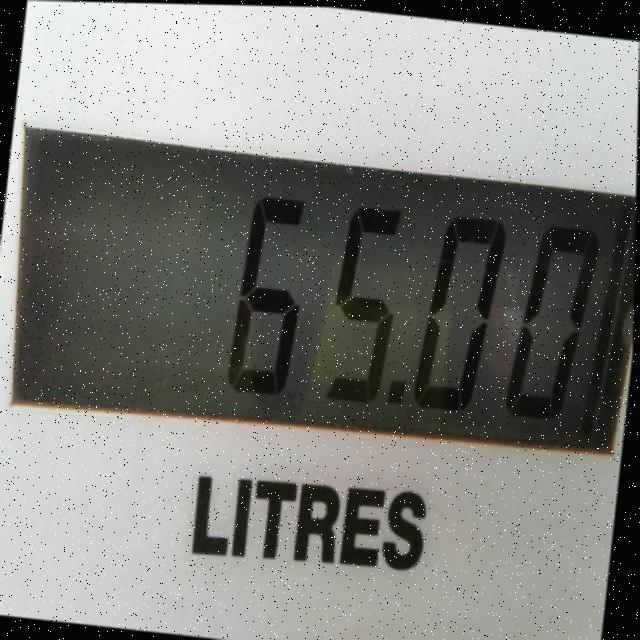.: (378, 361, 417, 417)
0: (398, 194, 513, 430), (497, 205, 609, 444)
5: (311, 190, 424, 410)
6: (210, 173, 332, 414)
